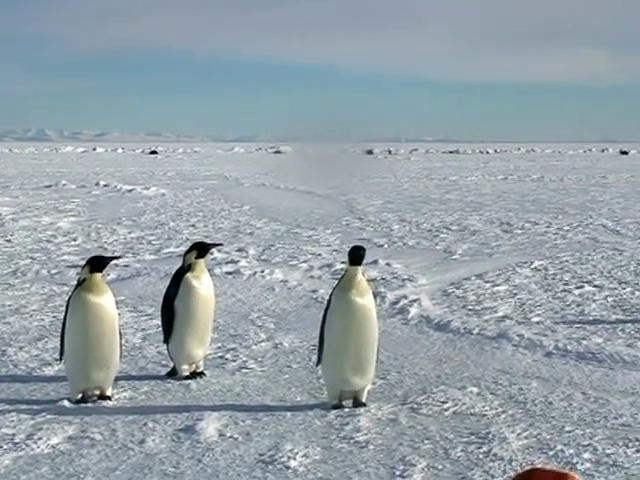animal: (317, 245, 377, 408)
